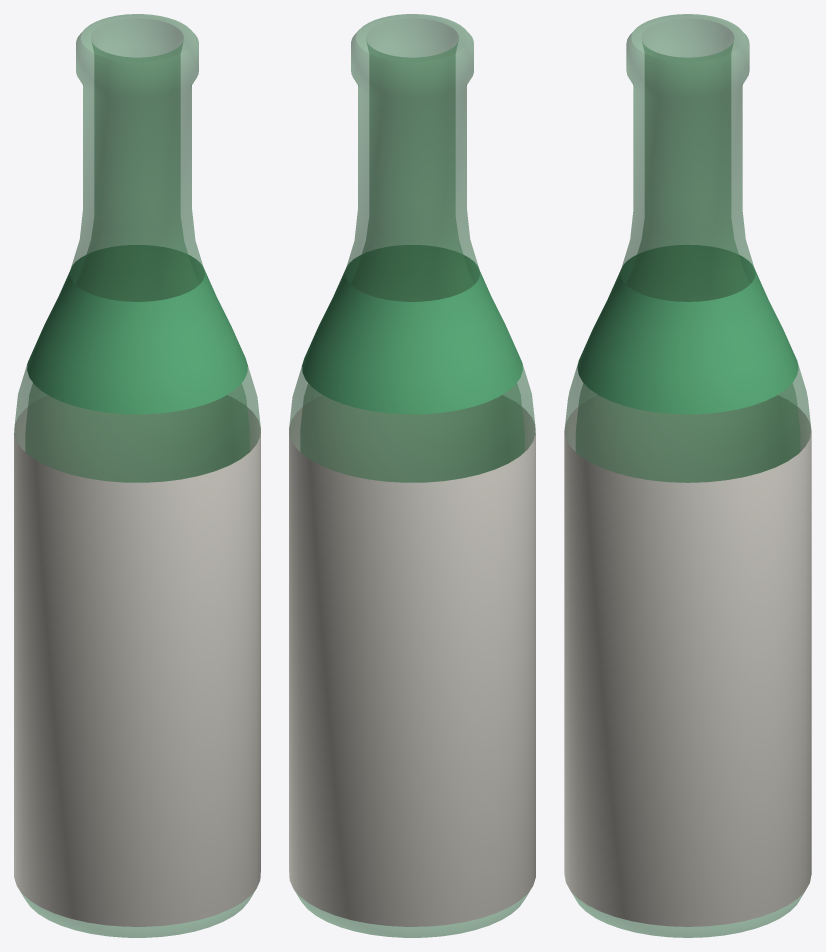
File: kitchen_bottle_beer_green.fbx
3 renders of one model, left to right at view 1: azimuth 30°, elevation 25°; view 2: azimuth 150°, elevation 25°; view 3: azimuth 270°, elevation 25°, orthographic.
Visible parts, largest first — view 1: kitchen_bottle_beer_green; view 2: kitchen_bottle_beer_green; view 3: kitchen_bottle_beer_green.
Boxes of the visible parts, x1,y1,x2,y2 form: kitchen_bottle_beer_green: (14,14,260,937); kitchen_bottle_beer_green: (289,14,535,937); kitchen_bottle_beer_green: (564,14,811,937).
Size of the model in its own units: 0.061 by 0.232 by 0.061.
